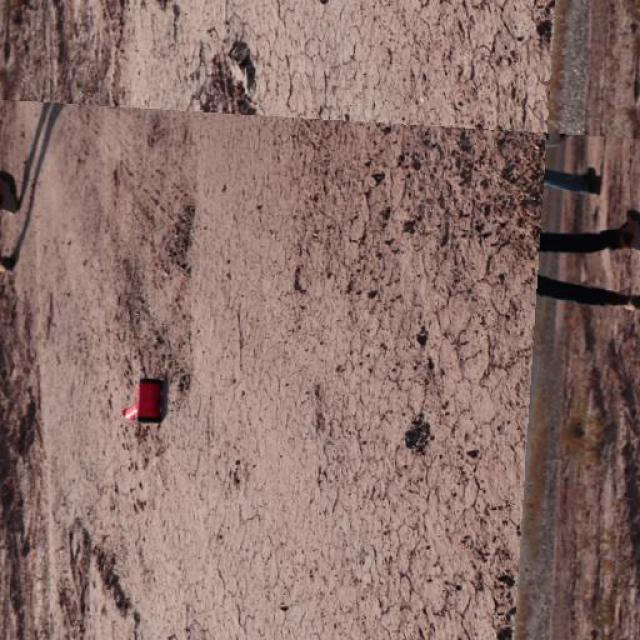mallet: (122, 377, 168, 422)
